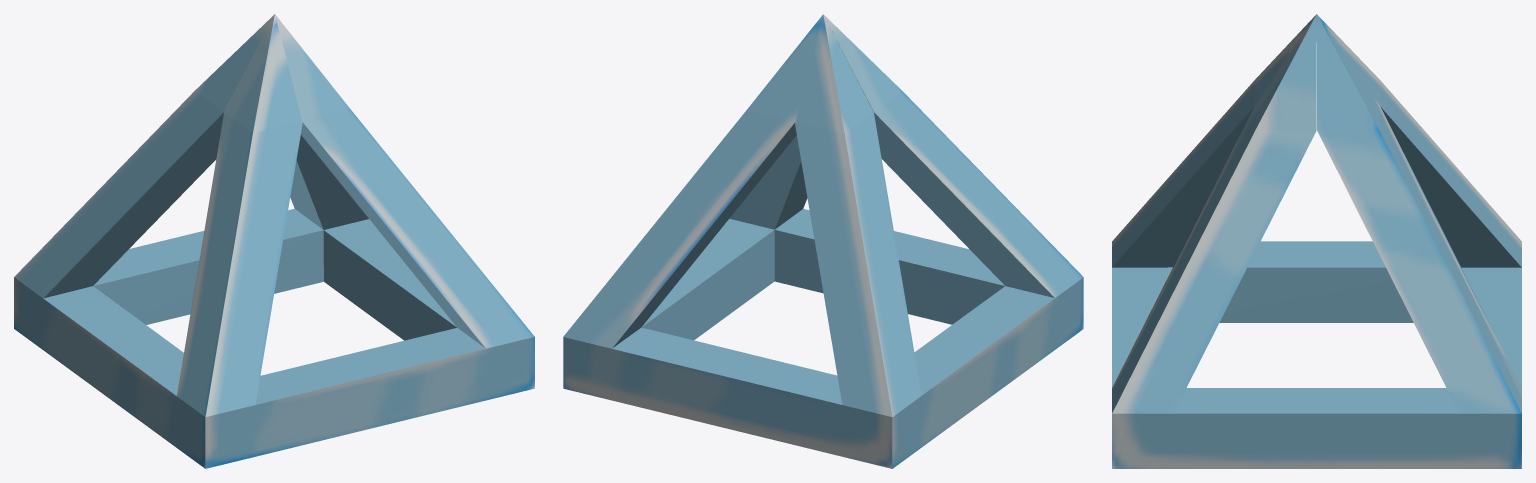
The model's file is glassPyramid.obj.
The picture shows the model from 3 angles, left to right: view 1: azimuth 30°, elevation 25°; view 2: azimuth 150°, elevation 25°; view 3: azimuth 270°, elevation 25°; orthographic projection. The views are drawn at different scales.
Parts seen in each view (by area): view 1: Cube; view 2: Cube; view 3: Cube.
Part boxes in pixels (x1,y1,x2,y2): Cube: [14, 14, 534, 468]; Cube: [563, 14, 1083, 468]; Cube: [1112, 14, 1521, 468].
Size of the model in its own units: 2 by 2 by 2.01.
